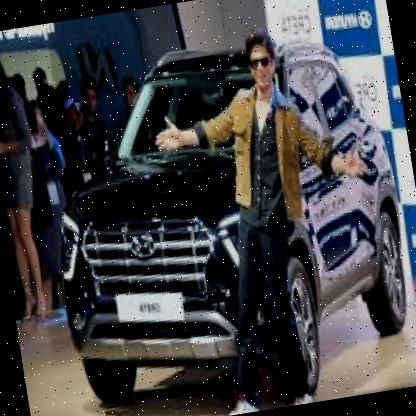car: (17, 12, 416, 416)
person: (169, 25, 356, 416)
